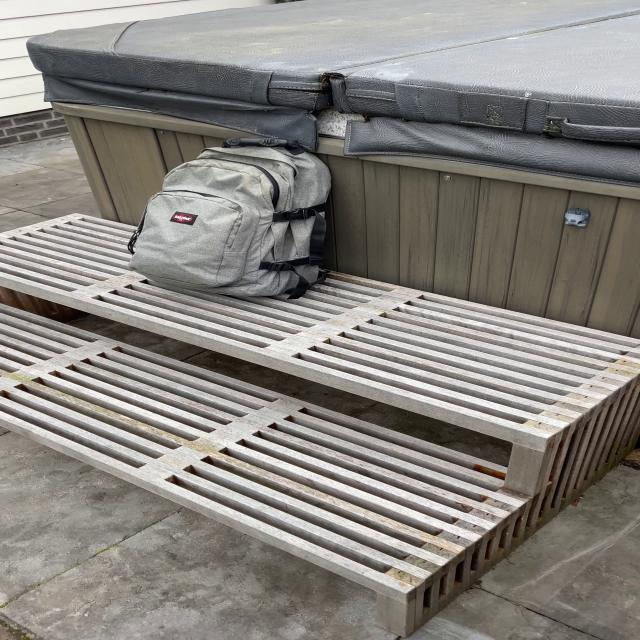backpack: (122, 132, 341, 299)
